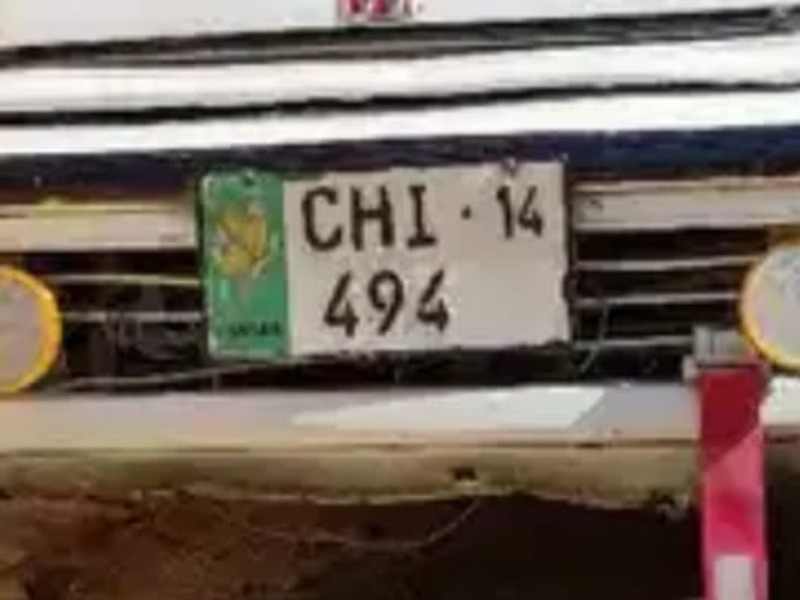License Plate: (192, 155, 577, 359)
